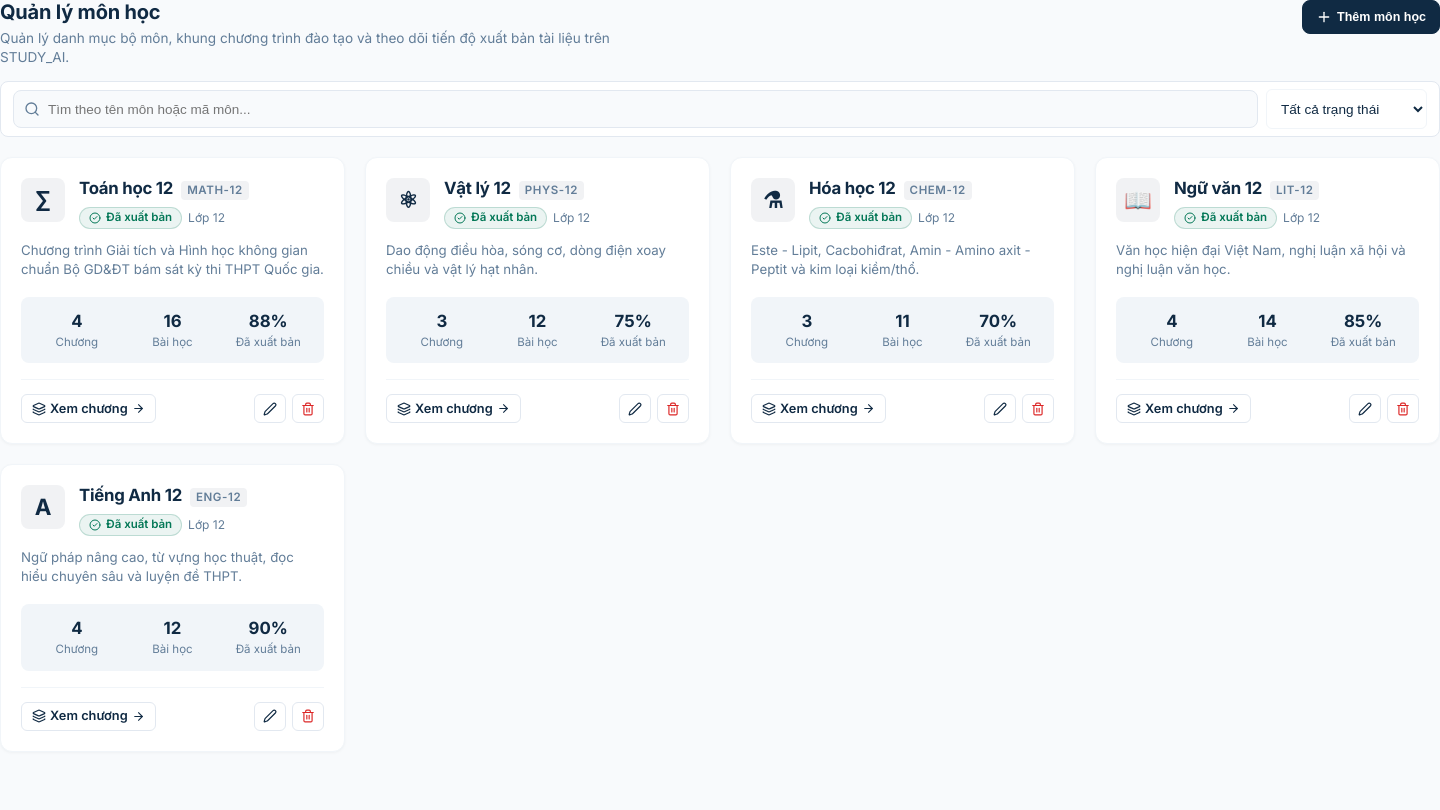
Test case: Admin Workspace V3 — Education Management Suite › 2. Quản lý môn học (AdminSubjectsPage) › creates a new subject demo via modal dialog and updates list
This screenshot has width=1440, height=810.
Expected: the heading "Toán học 12" is shown, [79,178,173,199]
// Click "Thêm môn học"
Click the button "Thêm môn học": click(1371, 17) [1302,0,1439,34]
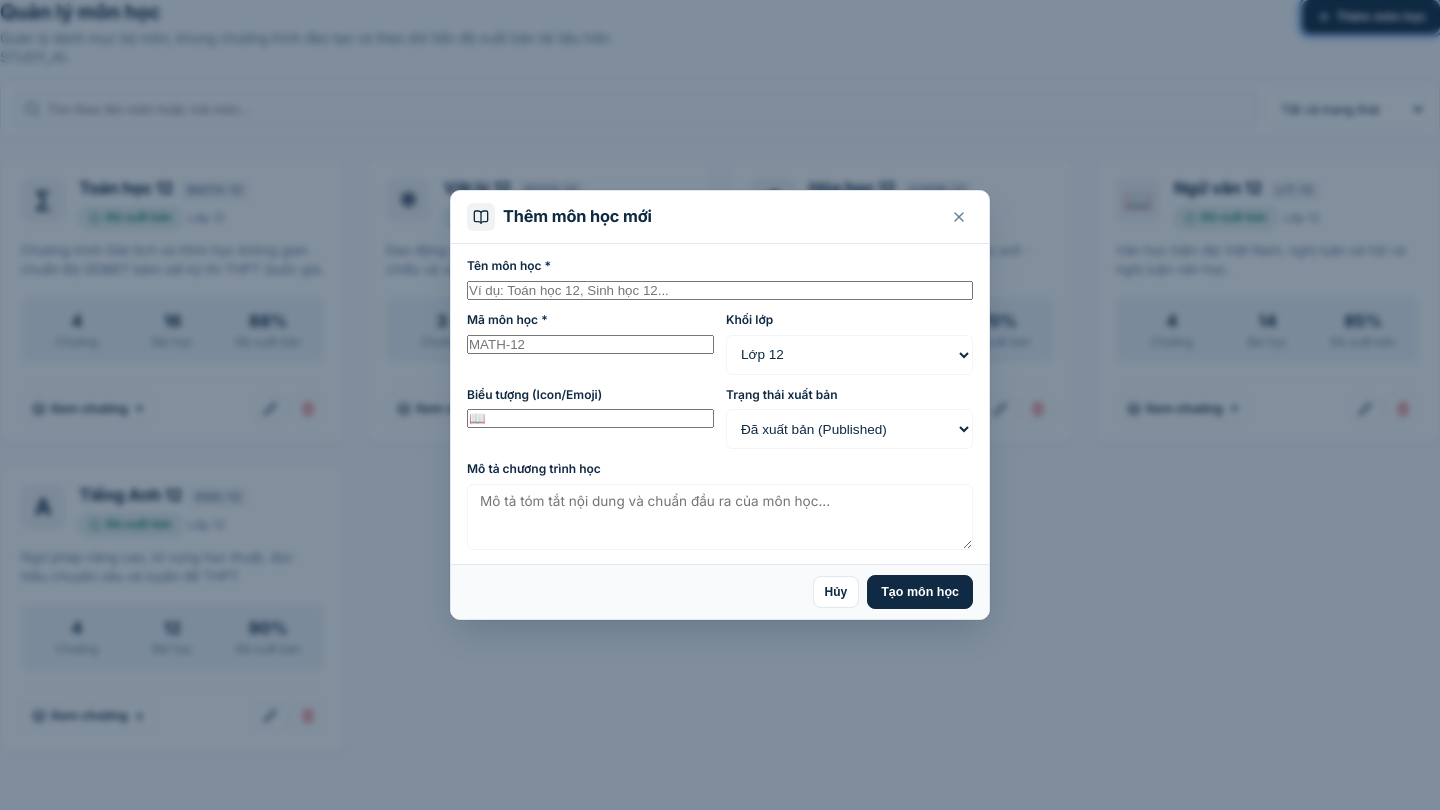
Result: the heading "Thêm môn học mới" is shown at [503,206,652,228]
// Fill form
In the field labelled "Tên môn học *": (720, 290) [467,281,973,300], type "Sinh học 12"
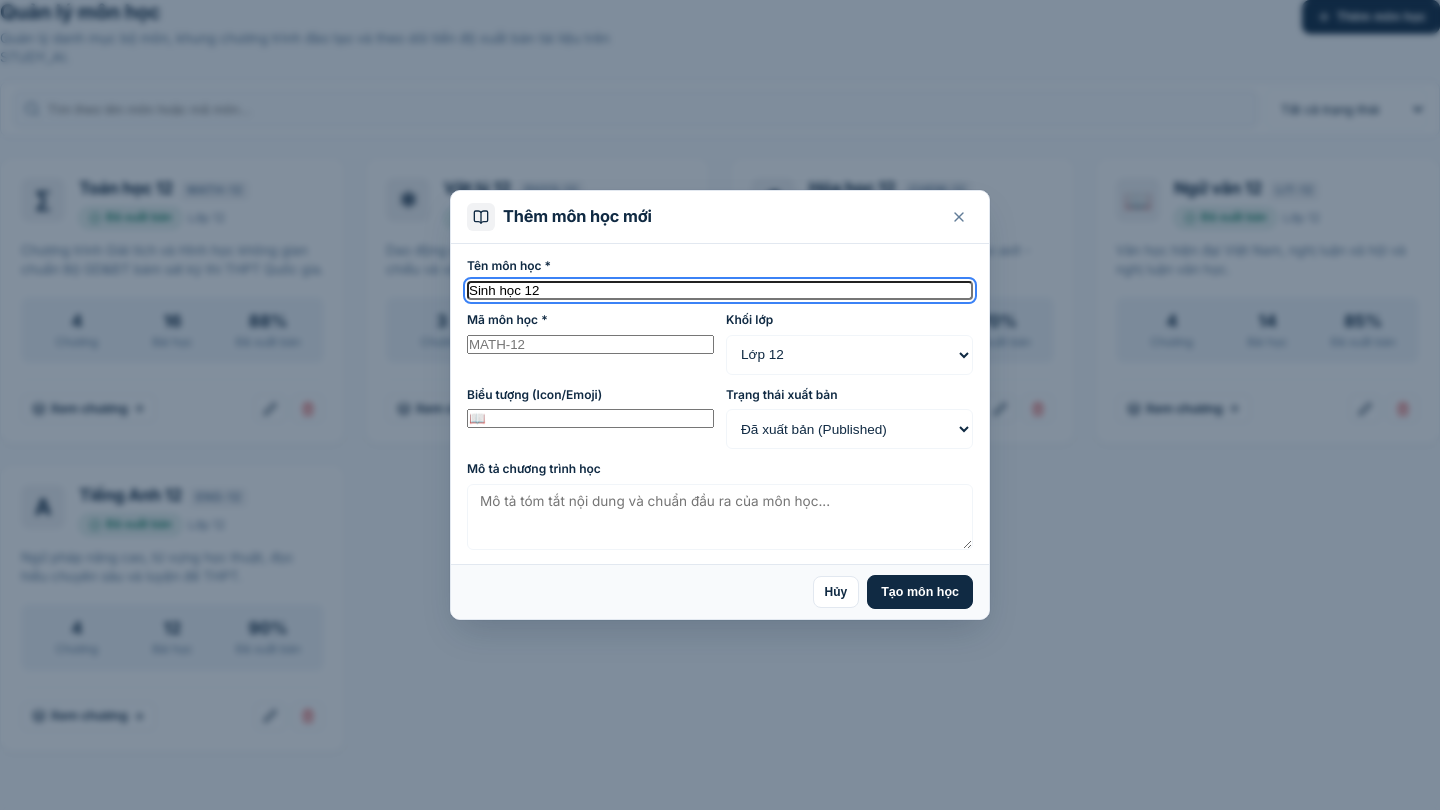
In the field labelled "Mã môn học *": (590, 344) [467,334,714,354], type "BIO-12"
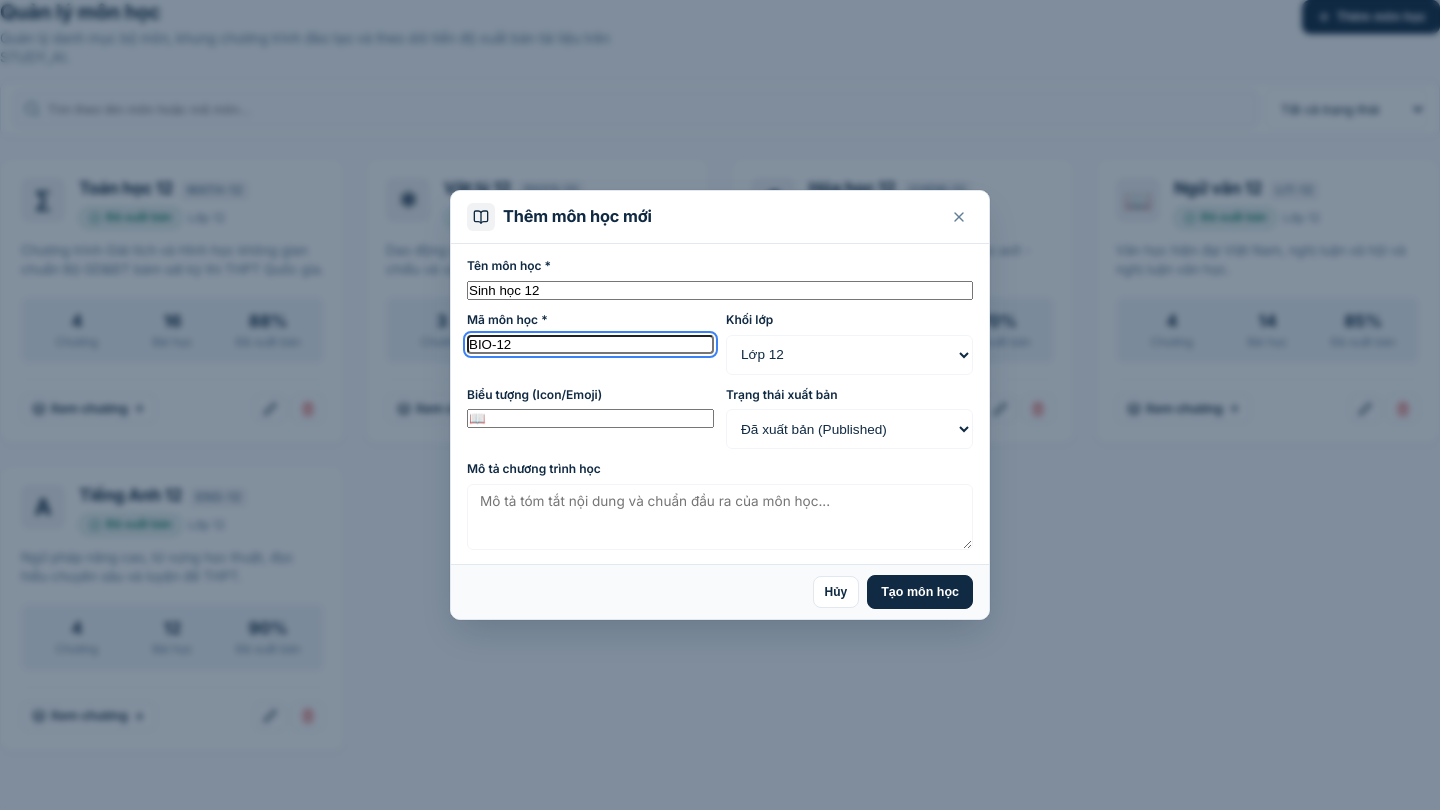
In the text box labelled "Mô tả chương trình học": (720, 517) [467,484,973,550], type "Di truyền học và tiến hóa."
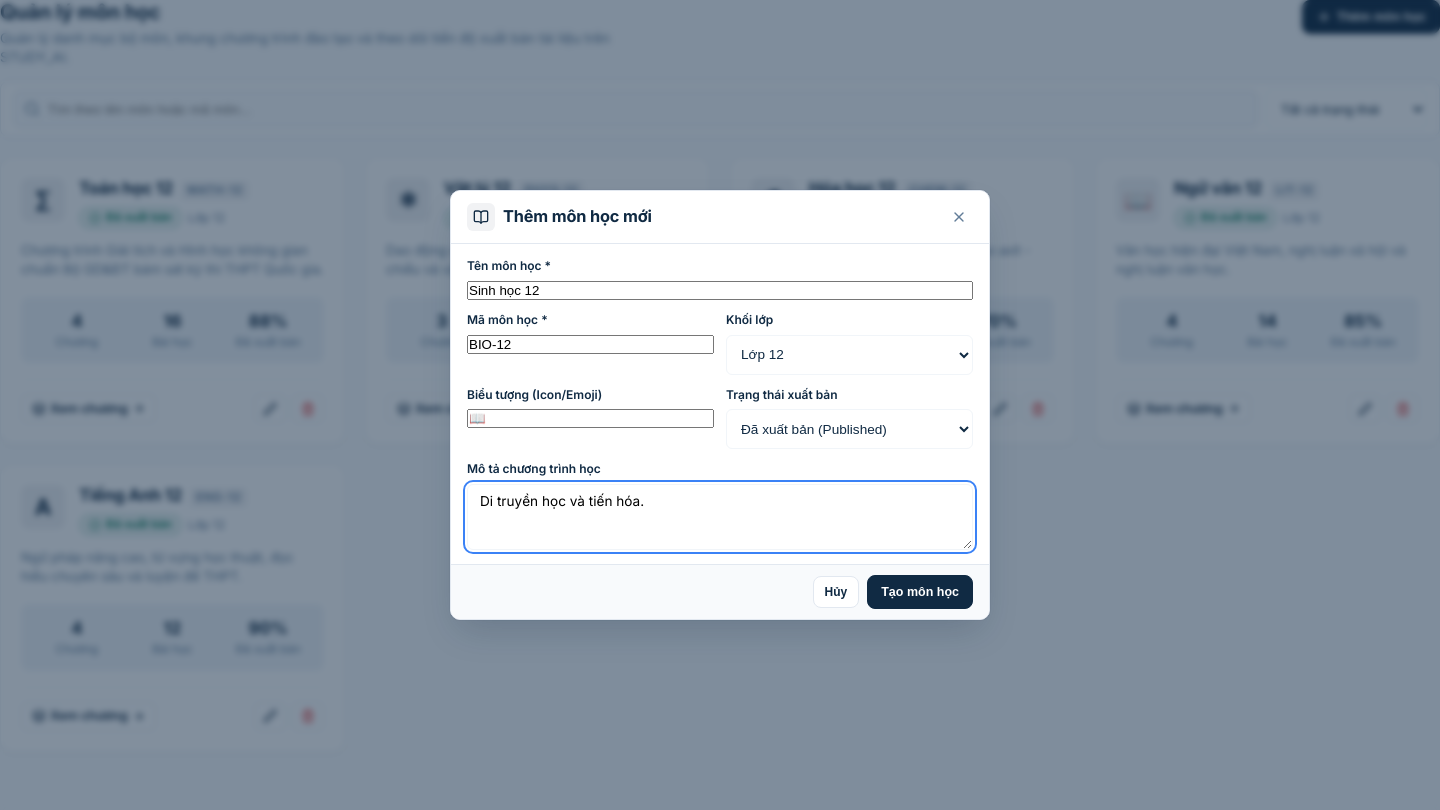
Click the button "Tạo môn học": click(920, 592) [867,575,973,609]
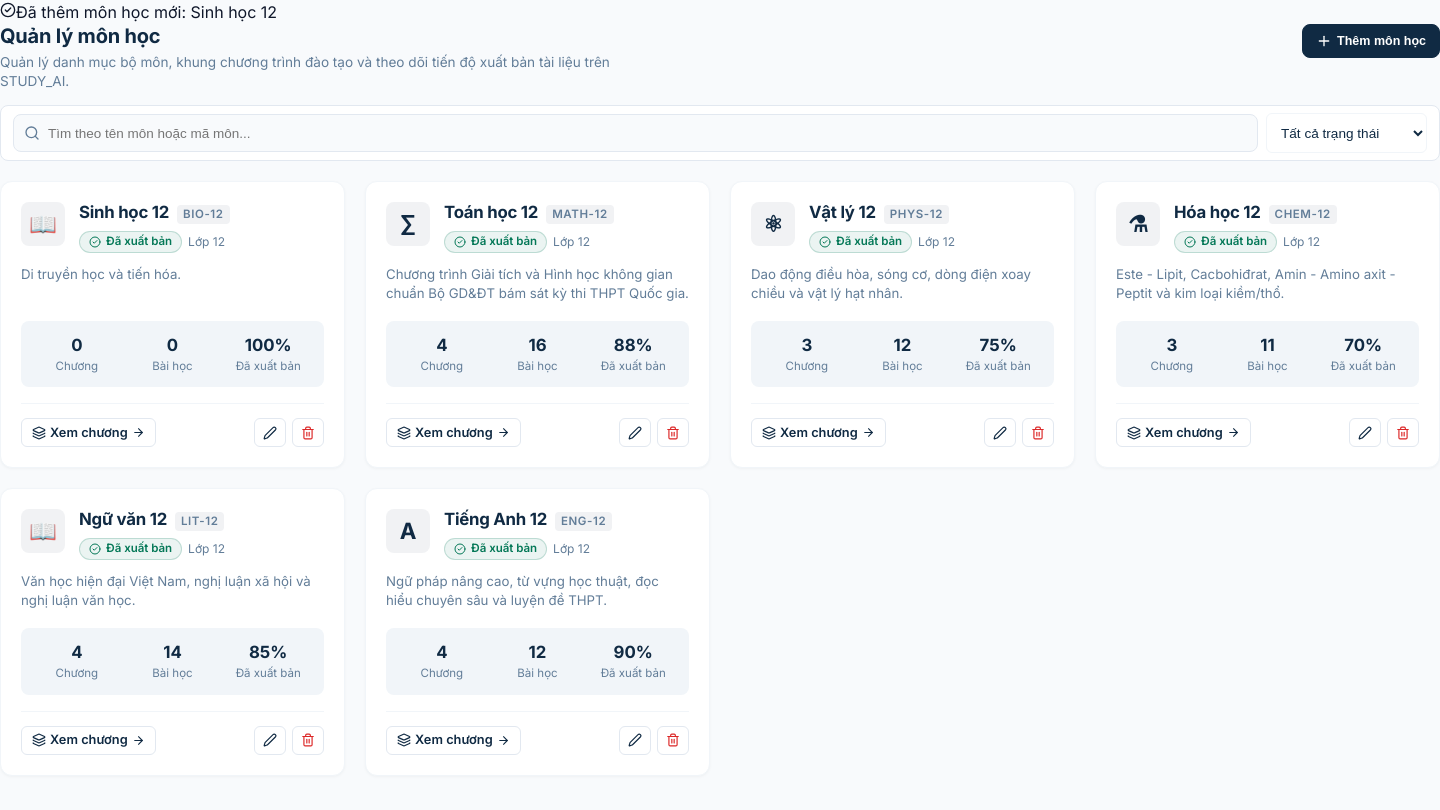
Result: the heading "Sinh học 12" is shown at [79,202,169,223]
Result: the text "BIO-12" is shown at [177,205,230,224]
